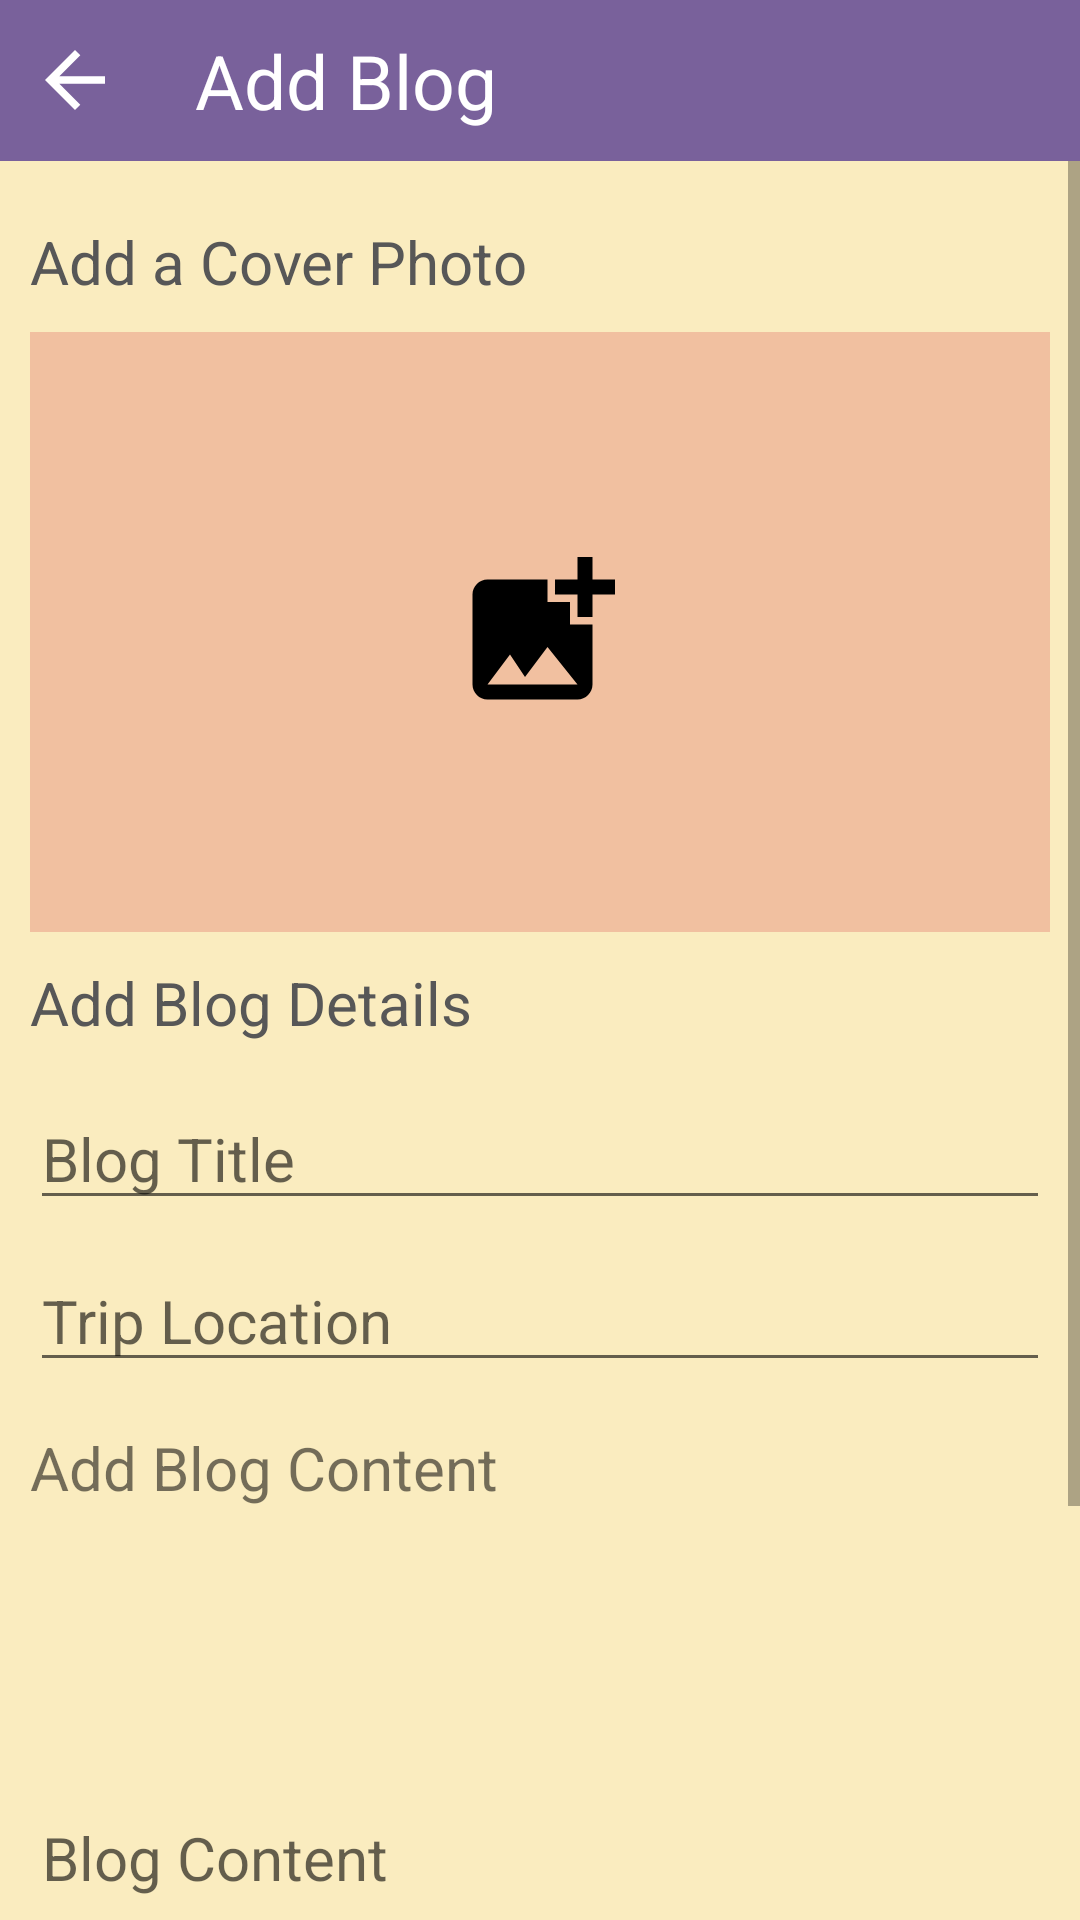

Icons on this 1080*1920 Android screen, each with the point to tap as [x,y]:
back: [75,80]
